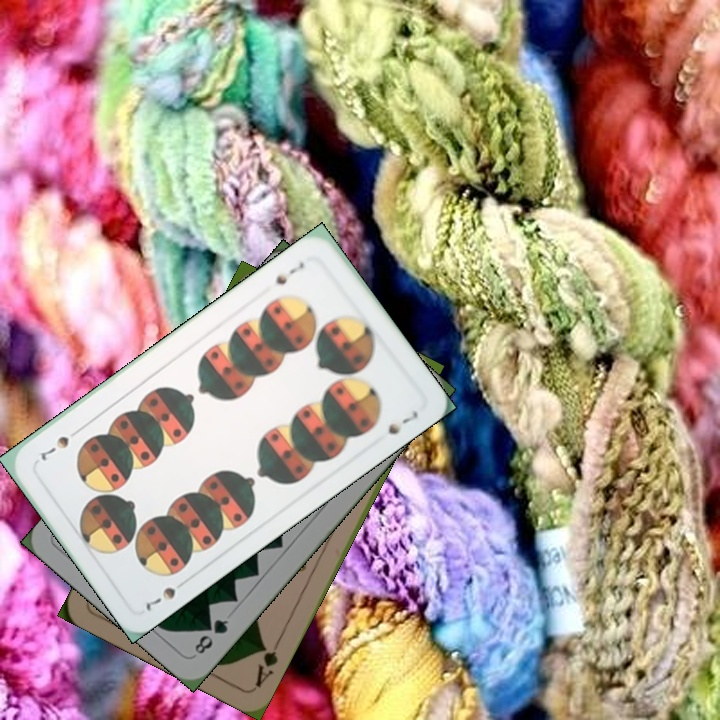G8: (190, 614, 232, 659)
GA: (250, 634, 283, 690)
S7: (141, 575, 191, 613), (271, 257, 307, 288)
